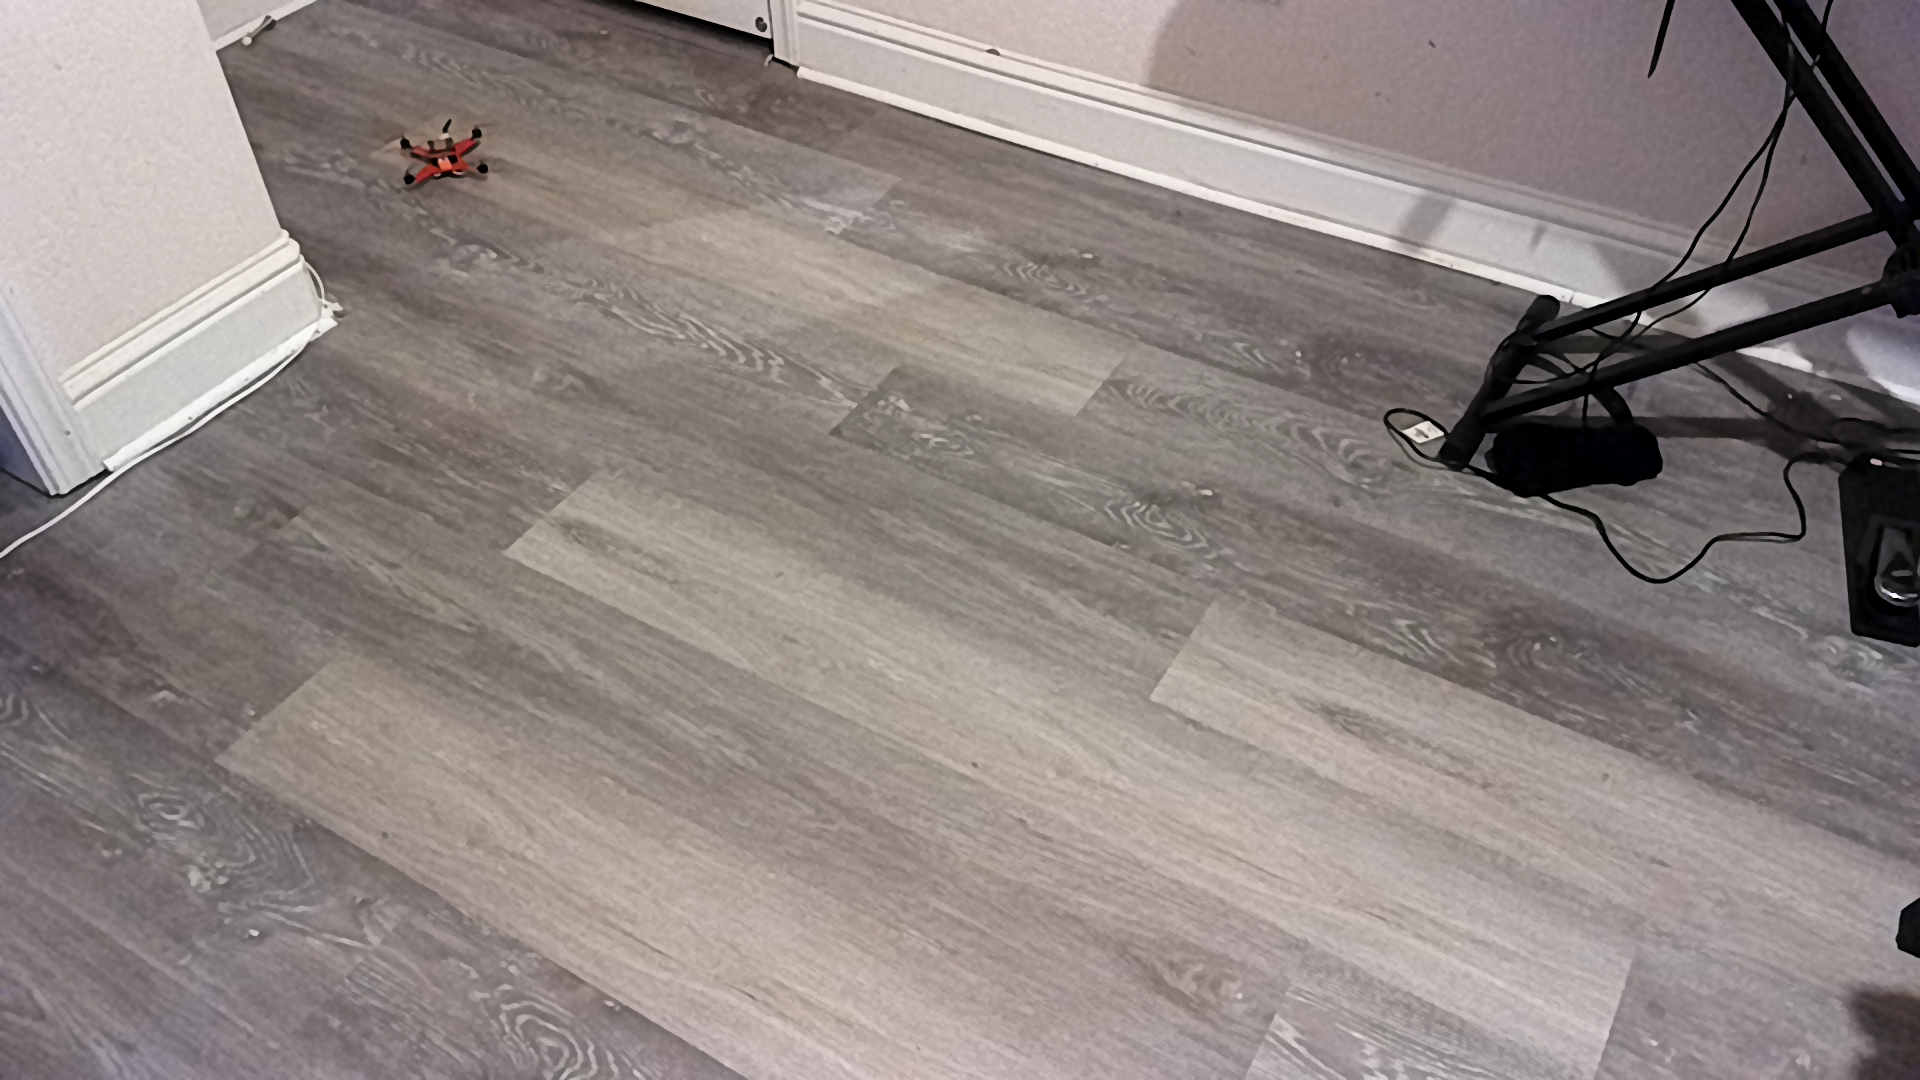drone: (378, 115, 517, 200)
